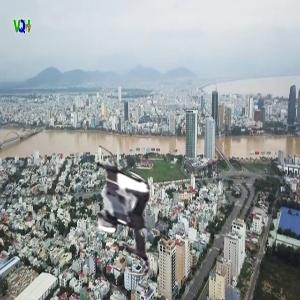drone: (69, 160, 181, 272)
